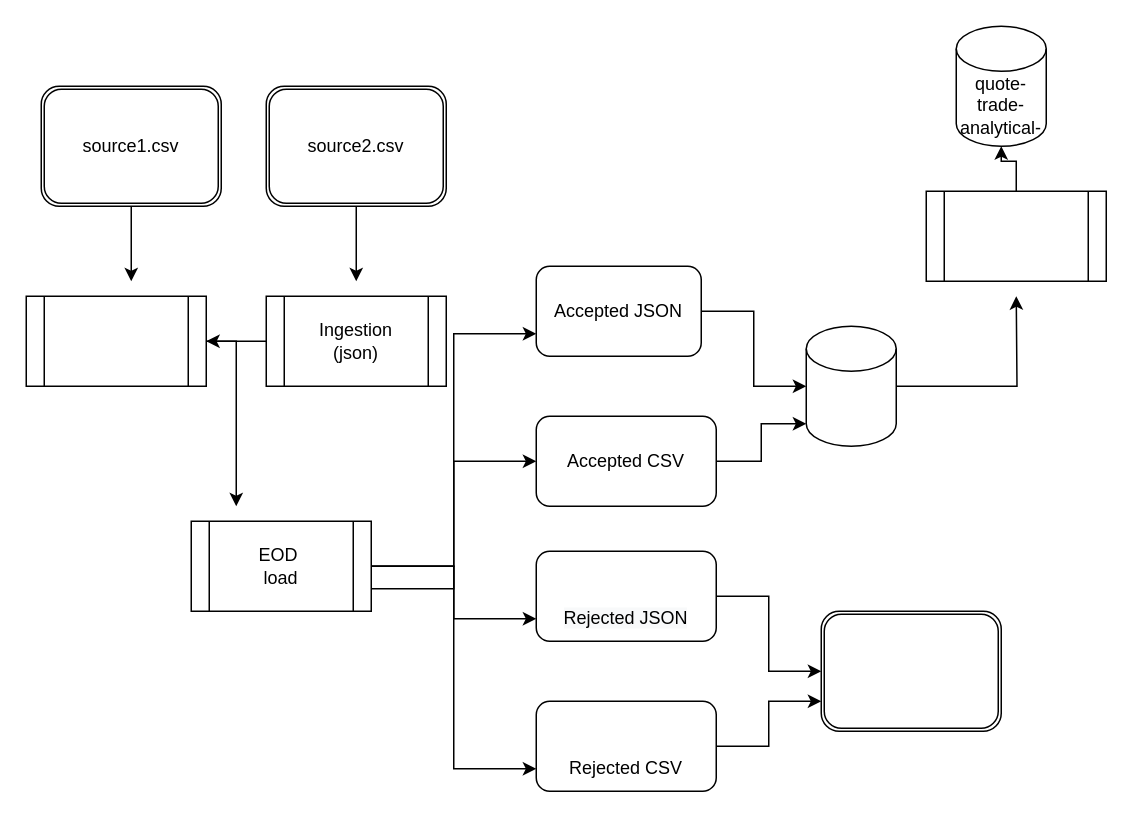
Image size: 1133x818. Some labels were removed from this diagram. The centre of each missing label's shape, as x and y in pixels:
"Analytical ETL" belongs at (x=1015, y=235).
"EOD Trade Quote" belongs at (x=850, y=385).
"Ingestion (csv)" belongs at (x=115, y=340).
"Rejected files" belongs at (x=910, y=670).
